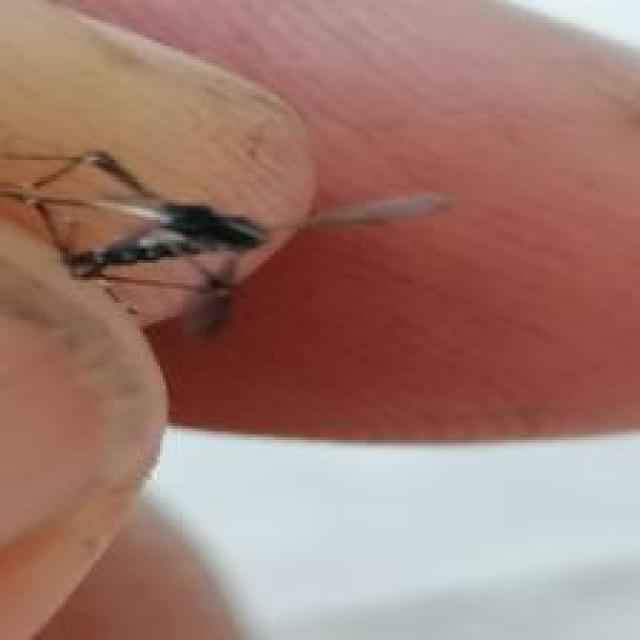Aedes albopictus: (0, 144, 454, 338)
